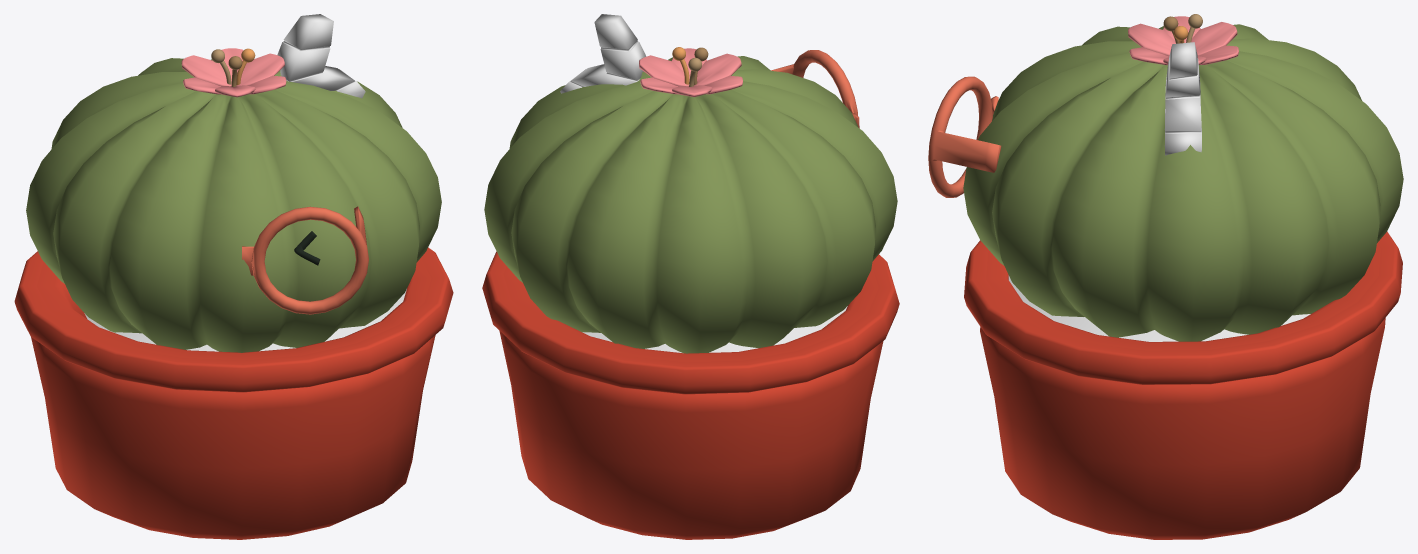
File: krabongphet.gltf
The picture shows the model from 3 angles, left to right: view 1: azimuth 30°, elevation 25°; view 2: azimuth 150°, elevation 25°; view 3: azimuth 270°, elevation 25°; orthographic projection. The views are drawn at different scales.
Visible parts, largest first — view 1: Sphere, Cylinder, Torus, Cube.002, Cube.005, Cylinder.001; view 2: Sphere, Cylinder, Cube.005, Cube.002, Torus, Cylinder.001; view 3: Sphere, Cylinder, Torus, Cube.002, Cube.005, Cylinder.001.
Boxes of the visible parts, box(x1,y1,x2,y2) form: Sphere: box(26, 58, 441, 352); Cylinder: box(14, 247, 453, 539); Torus: box(242, 206, 368, 314); Cube.002: box(277, 14, 365, 98); Cube.005: box(181, 48, 286, 97); Cylinder.001: box(84, 289, 406, 351); Sphere: box(484, 56, 897, 353); Cylinder: box(482, 251, 899, 539); Cube.005: box(639, 48, 742, 97); Cube.002: box(560, 14, 646, 93); Torus: box(771, 50, 859, 128); Cylinder.001: box(582, 306, 847, 352); Sphere: box(963, 24, 1403, 341); Cylinder: box(964, 231, 1402, 539); Torus: box(928, 76, 1001, 197); Cube.002: box(1164, 42, 1201, 155); Cube.005: box(1128, 16, 1238, 65); Cylinder.001: box(1008, 275, 1310, 341).
Size of the model in its own units: 4.01 by 4.68 by 4.18.
